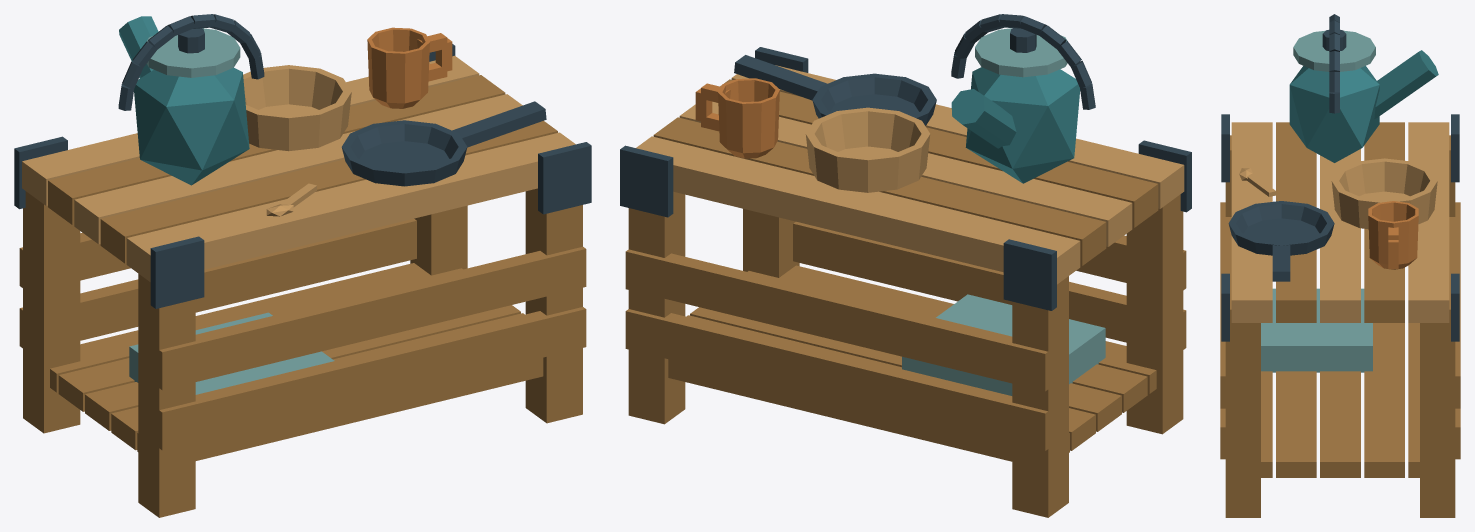
Rendered from SM_CampCookingStation.fbx.
3 renders of one model, left to right at view 1: azimuth 30°, elevation 25°; view 2: azimuth 150°, elevation 25°; view 3: azimuth 270°, elevation 25°, orthographic. The views are drawn at different scales.
Parts seen in each view (by area): view 1: SM_CampCookingStation; view 2: SM_CampCookingStation; view 3: SM_CampCookingStation.
Boxes of the visible parts, <box> form: SM_CampCookingStation: <box>14,14,591,517</box>; SM_CampCookingStation: <box>620,14,1191,517</box>; SM_CampCookingStation: <box>1220,14,1460,517</box>.
Bounding box in the file's own units: 1.44 × 0.815 × 1.36.
